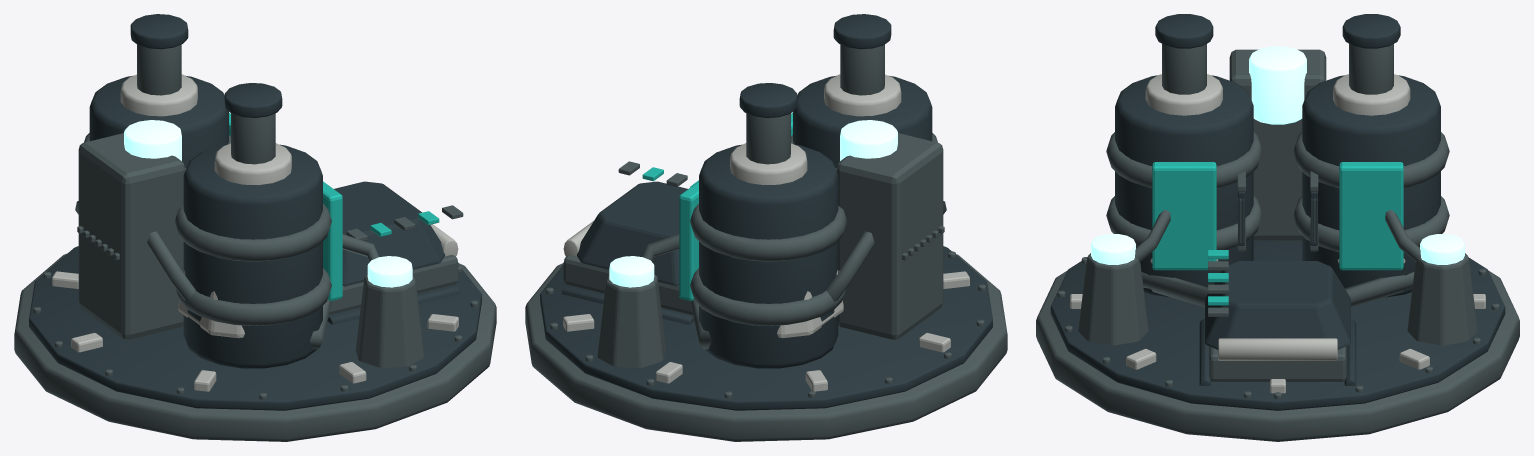
Rendered from SM_Kiln.fbx.
The picture shows the model from 3 angles, left to right: view 1: azimuth 30°, elevation 25°; view 2: azimuth 150°, elevation 25°; view 3: azimuth 270°, elevation 25°; orthographic projection.
Visible parts, largest first — view 1: SM_Kiln; view 2: SM_Kiln; view 3: SM_Kiln.
Boxes of the visible parts, x1,y1,x2,y2 form: SM_Kiln: (14, 14, 496, 441); SM_Kiln: (525, 14, 1007, 441); SM_Kiln: (1036, 14, 1519, 441).
Bounding box in the file's own units: 180 × 180 × 120.
